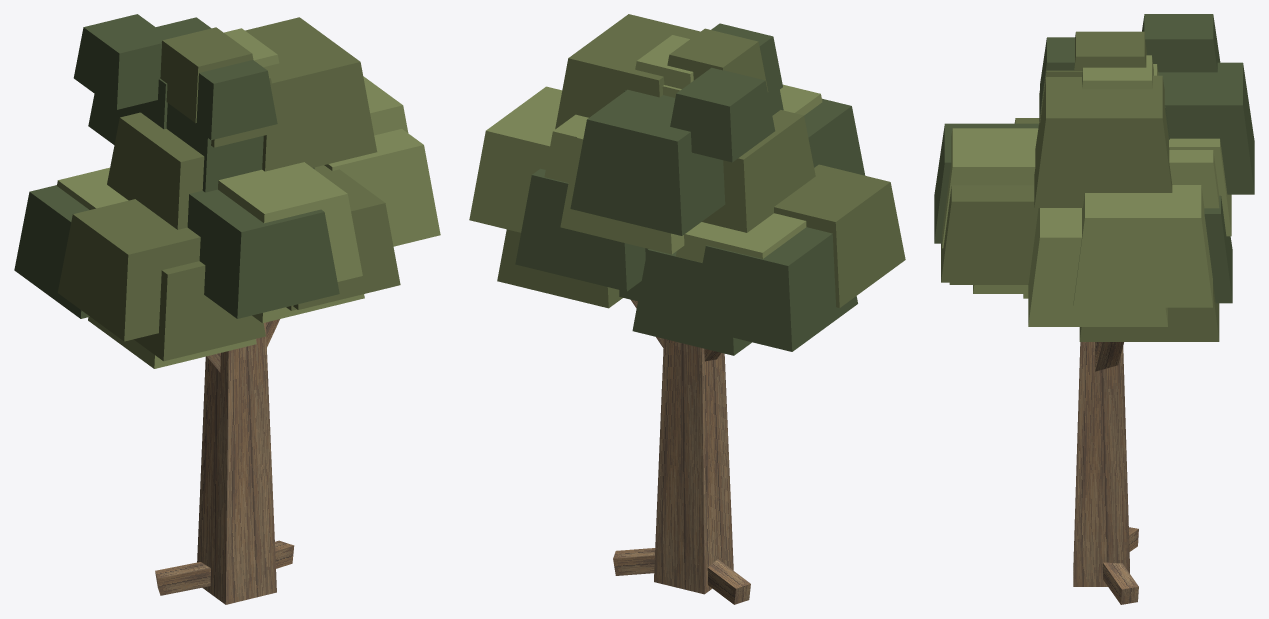
Rendered from broadleaf_tree.glb.
The picture shows the model from 3 angles, left to right: view 1: azimuth 30°, elevation 25°; view 2: azimuth 150°, elevation 25°; view 3: azimuth 270°, elevation 25°; orthographic projection. The views are drawn at different scales.
Parts seen in each view (by area): view 1: root; view 2: root; view 3: root.
Boxes of the visible parts, x1=… form: root: x1=14, y1=14, x2=440, y2=604; root: x1=469, y1=14, x2=905, y2=604; root: x1=934, y1=14, x2=1254, y2=604.
Size of the model in its own units: 2.59 by 4.06 by 2.27.
Materials: 1 (1 with a texture image).
